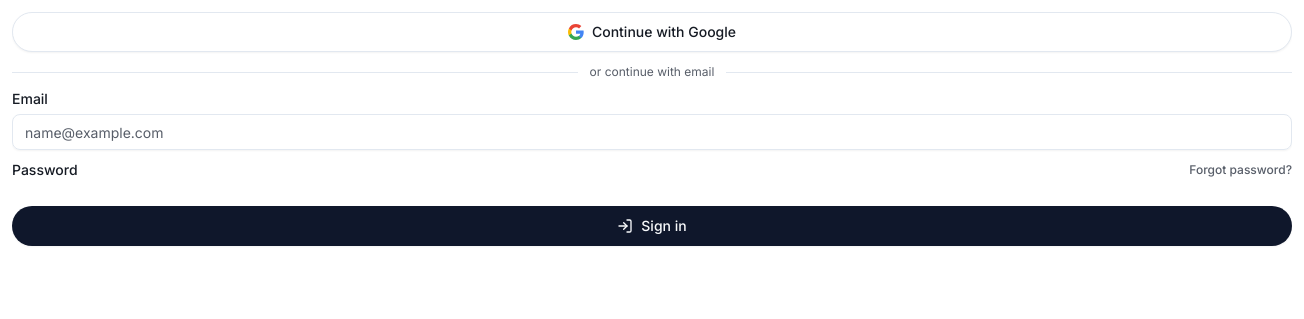
Test: UserAuthForm › Rendering without redirectTo › shows validation messages when submitting empty form
The image size is (1304, 319).
Click the button "Sign in".
click(652, 226)  # box [12,206,1292,246]
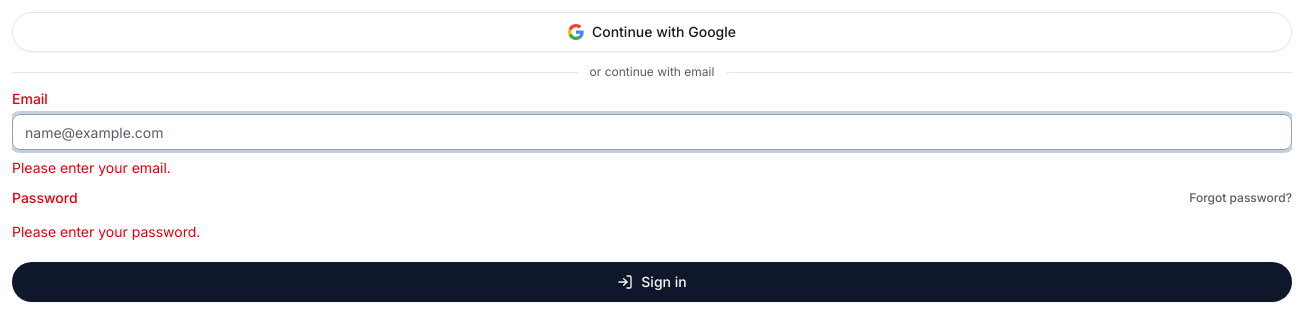
Expected: the text "Please enter your password." is shown, [12,223,200,240]
